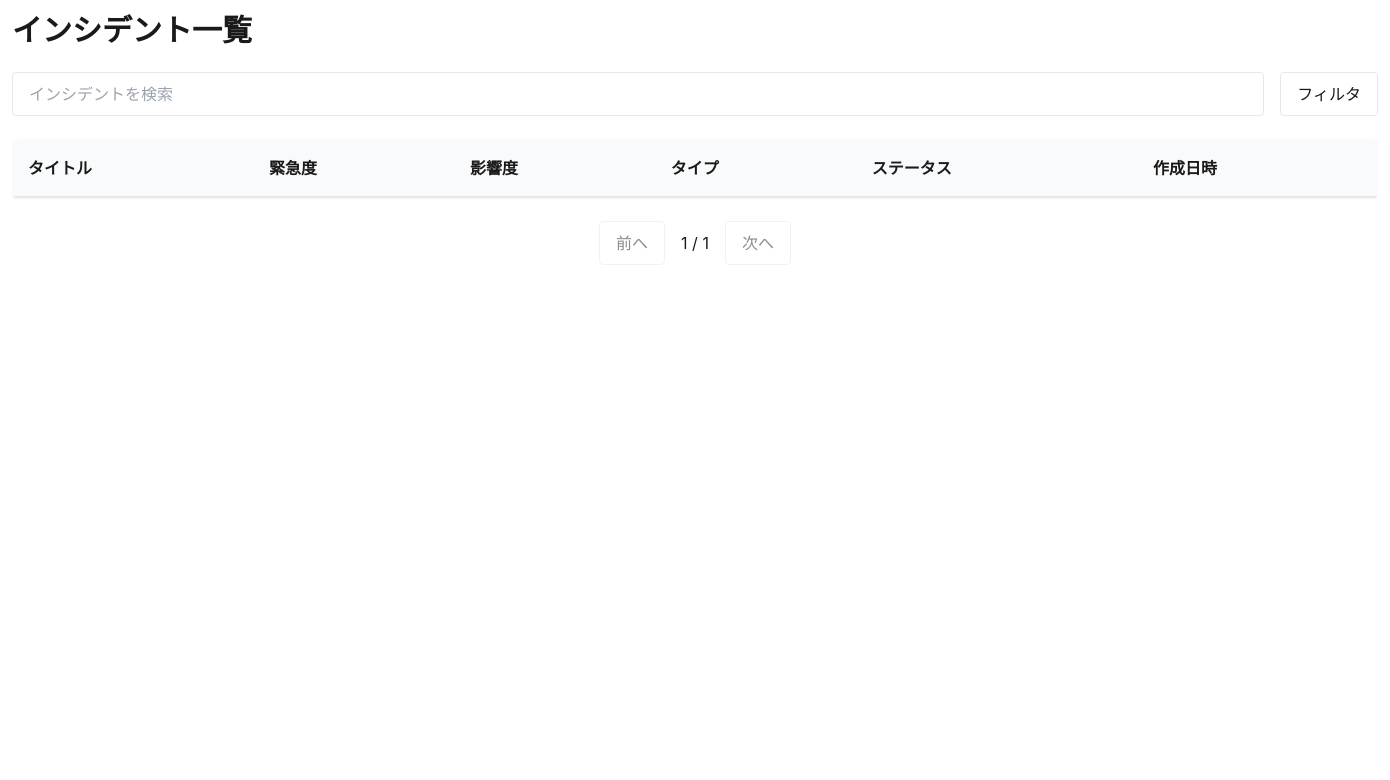
Incidents List UI (Red phase) › provides filter controls
Check: the field with placeholder "インシデントを検索" is shown, box [12,72,1264,116]
#  フィルタを開く
Click the button "フィルタ" at (1329, 94), box [1280,72,1378,116]
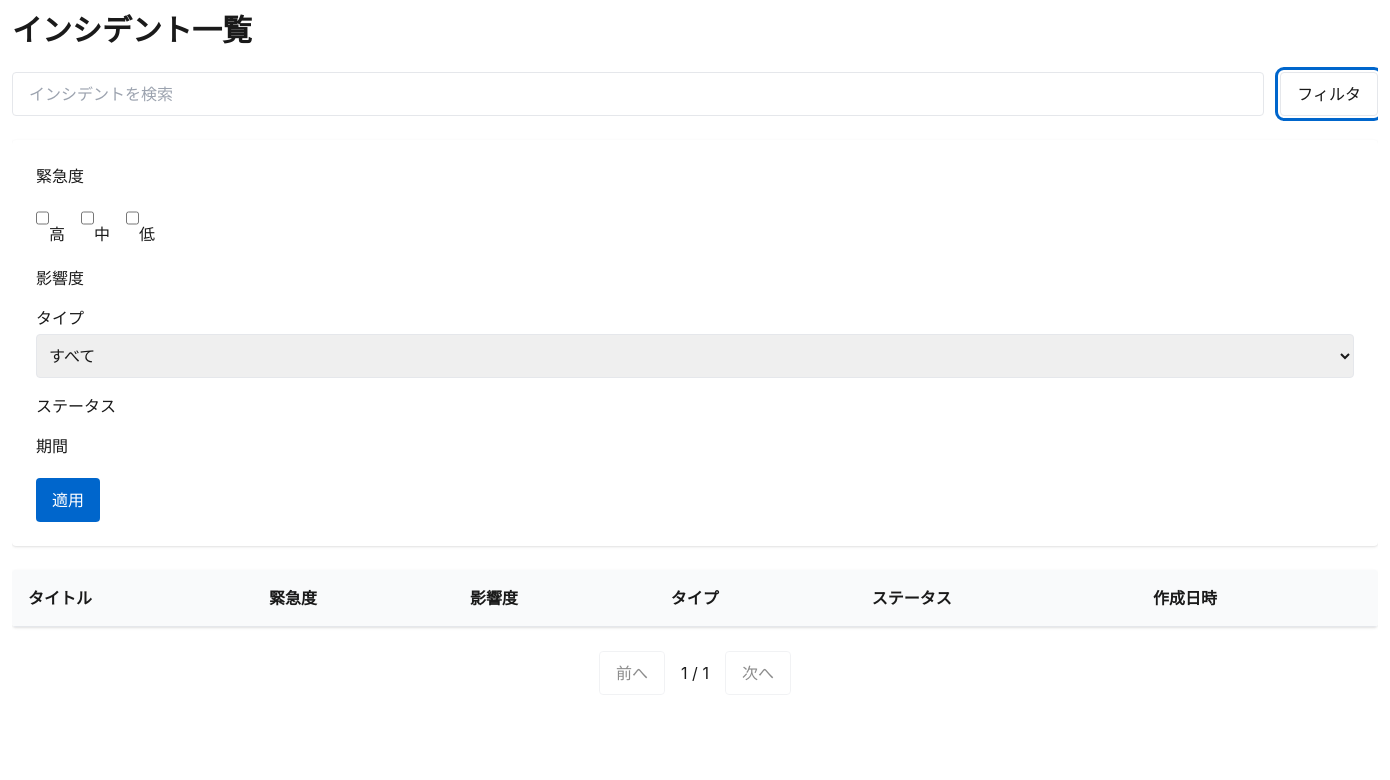
Check: the element named "緊急度" is shown, box [36,196,155,244]
Check: the dropdown labelled "タイプ" is shown, box [36,334,1354,378]
